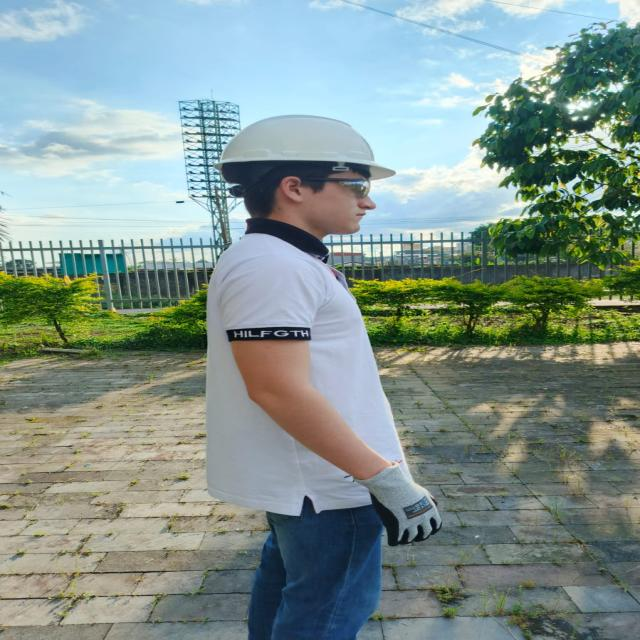gloves: (355, 465, 441, 546)
helmet: (214, 115, 395, 183)
protective_glasses: (300, 177, 369, 198)
